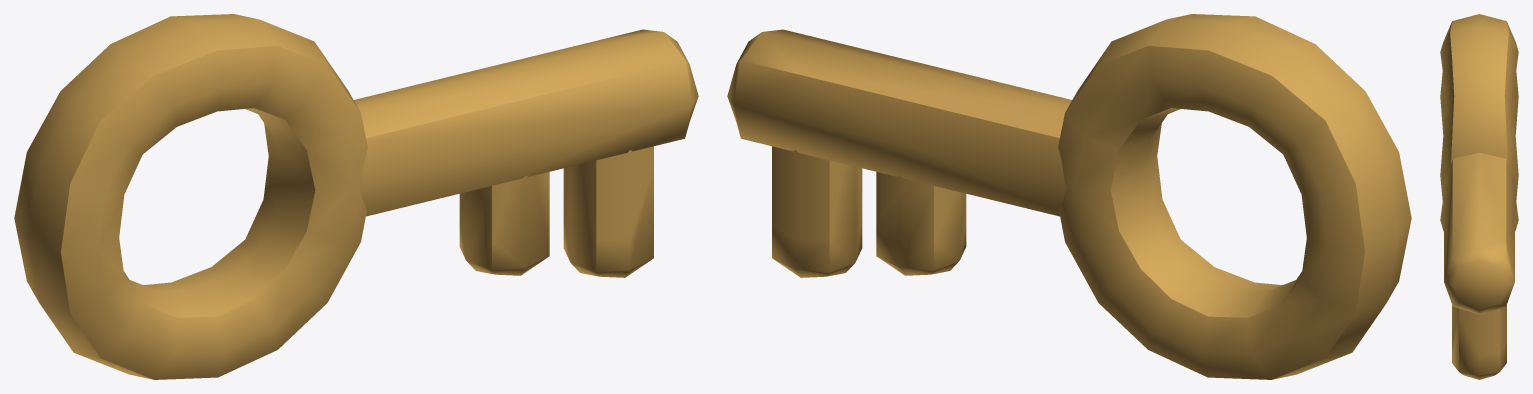
Rendered from quaternius-platformer-game-key.glb.
The picture shows the model from 3 angles, left to right: view 1: azimuth 30°, elevation 25°; view 2: azimuth 150°, elevation 25°; view 3: azimuth 270°, elevation 25°; orthographic projection. The views are drawn at different scales.
Parts seen in each view (by area): view 1: Key; view 2: Key; view 3: Key.
Boxes of the visible parts, x1,y1,x2,y2 form: Key: (14, 14, 698, 379); Key: (727, 14, 1411, 379); Key: (1440, 14, 1518, 379).
Bounding box in the file's own units: 1.93 × 0.9819 × 0.3178.
